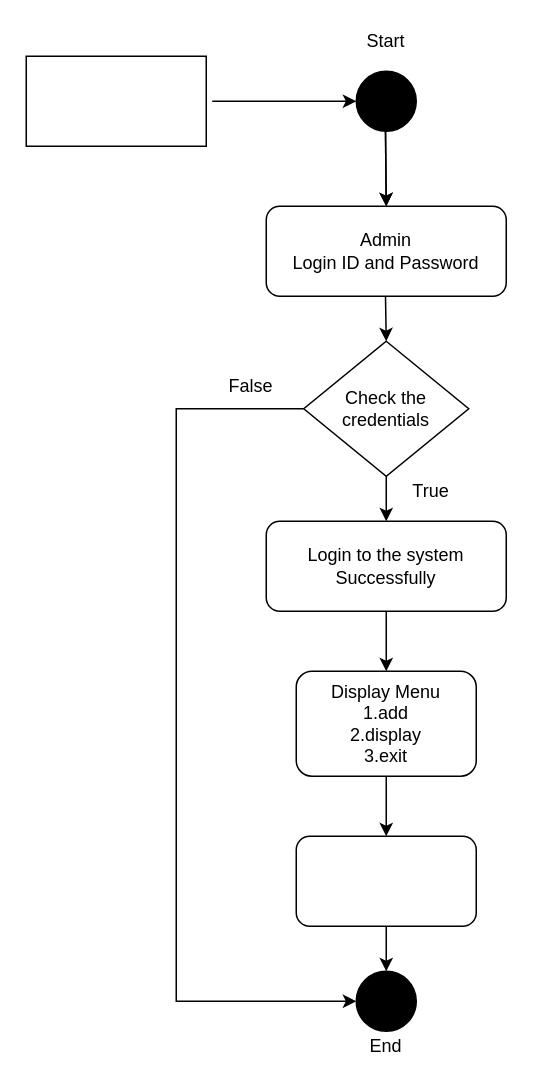
Image size: 533x1086. Some labels were removed from this diagram. Each missing label, with the centre of its shape:
"Admin is Registered" goes at (x=115, y=100).
"Perform the operation based on the admin choice" goes at (x=385, y=880).
